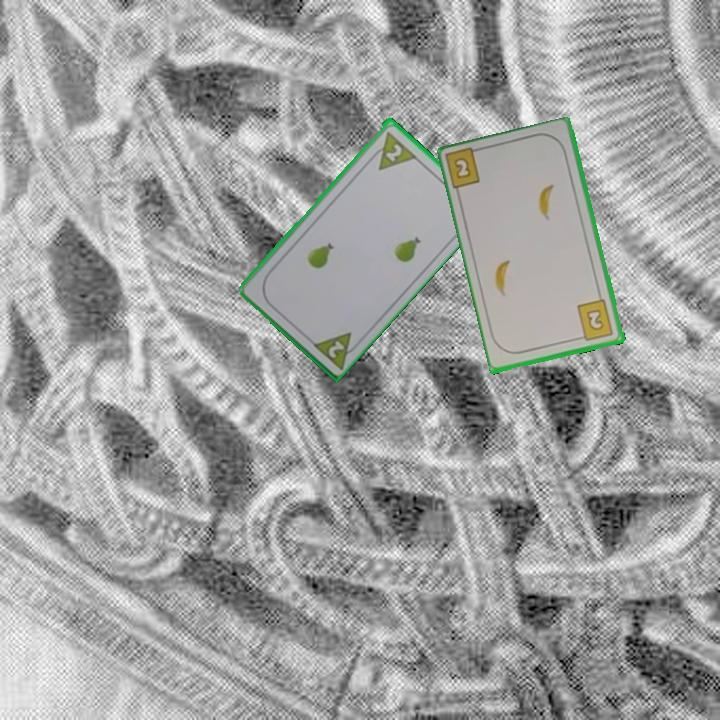2b: (574, 296, 616, 344), (450, 154, 474, 182)
2p: (324, 336, 348, 361), (382, 139, 405, 164)
